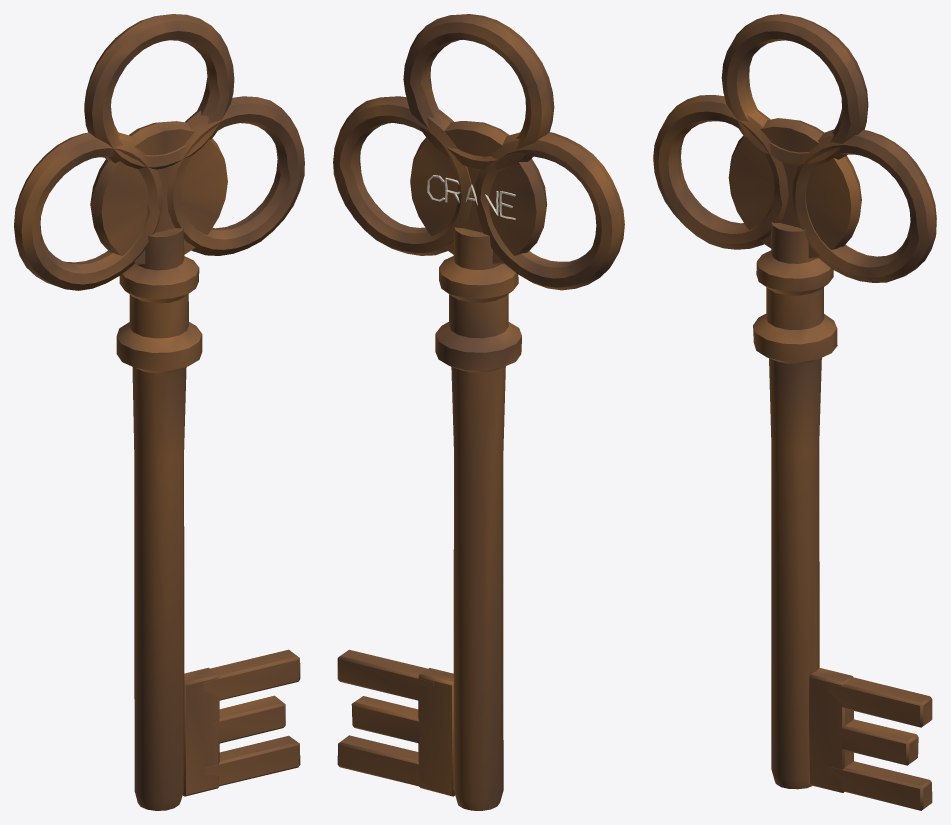
Rendered from rusted-crypt-key.glb.
3 views of the same model, side by side, from view 1: azimuth 30°, elevation 25°; view 2: azimuth 150°, elevation 25°; view 3: azimuth 330°, elevation 25° (orthographic). The views are drawn at different scales.
Parts seen in each view (by area): view 1: rusted-crypt-key; view 2: rusted-crypt-key; view 3: rusted-crypt-key.
Part boxes in pixels (x1=…): rusted-crypt-key: x1=14, y1=14, x2=304, y2=810; rusted-crypt-key: x1=333, y1=14, x2=624, y2=810; rusted-crypt-key: x1=653, y1=14, x2=936, y2=810.
Bounding box in the file's own units: 0.0402 × 0.1051 × 0.0102.
